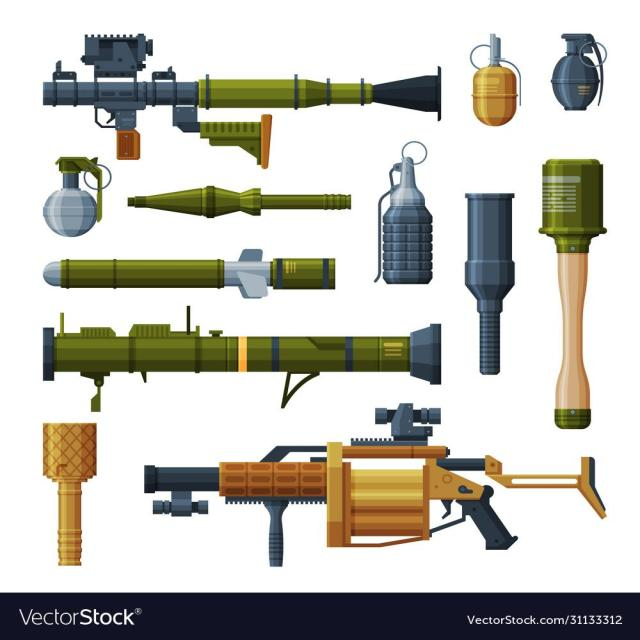weapon: (140, 403, 614, 580), (32, 17, 452, 168), (24, 297, 464, 409), (536, 147, 615, 441), (39, 236, 349, 301), (462, 178, 522, 382), (373, 135, 447, 296), (125, 178, 353, 226), (39, 413, 106, 574), (39, 142, 121, 254), (471, 30, 519, 128), (558, 28, 600, 121)
